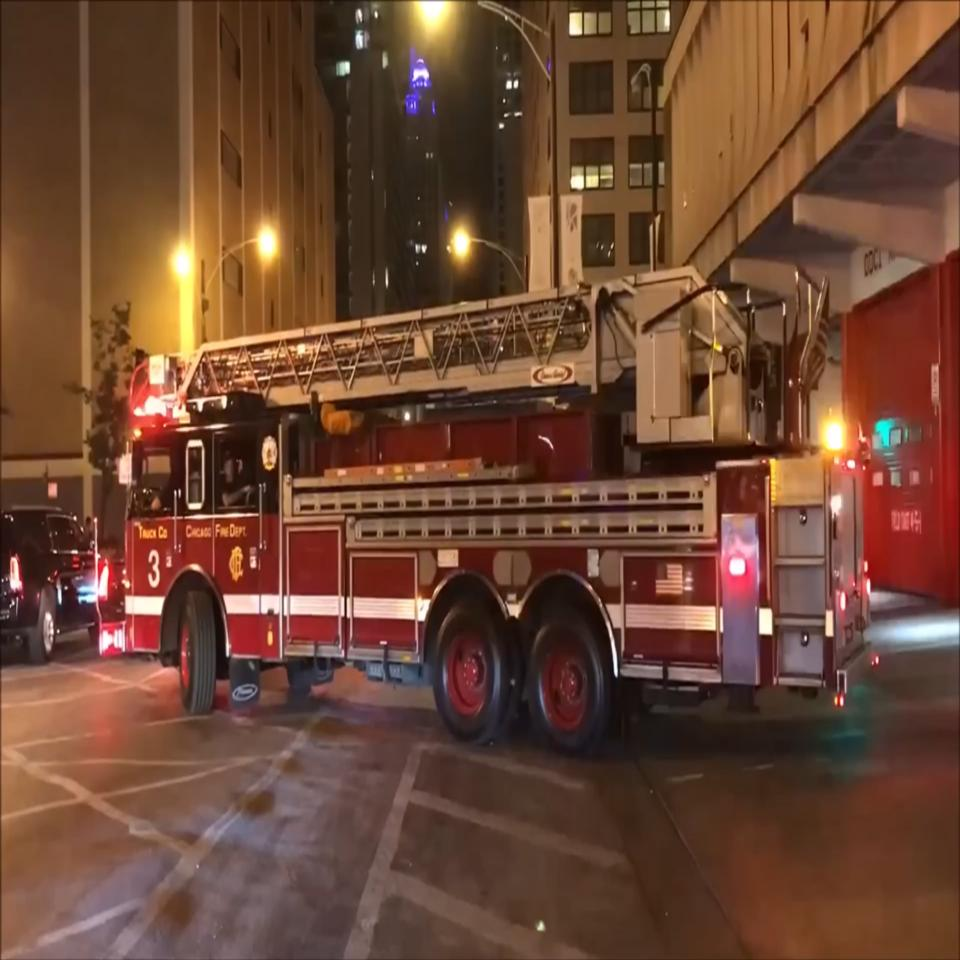viatura: (116, 262, 884, 764)
